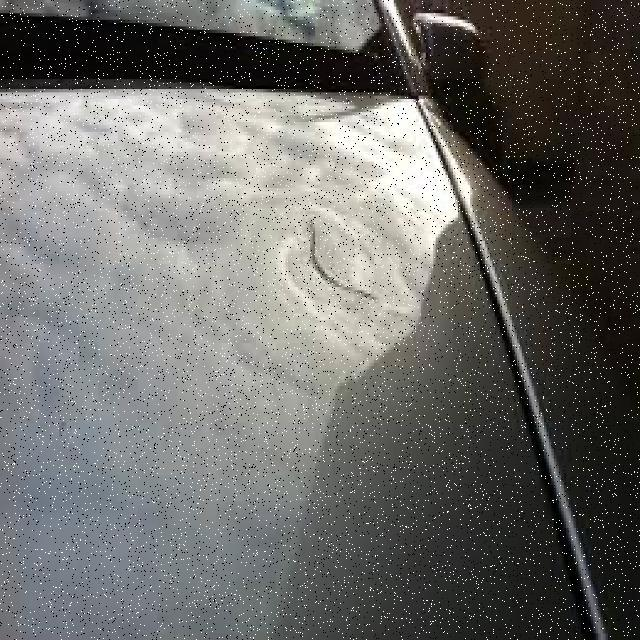bonnet-dent: (5, 56, 524, 574)
